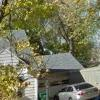Tree: (21, 0, 100, 50)
